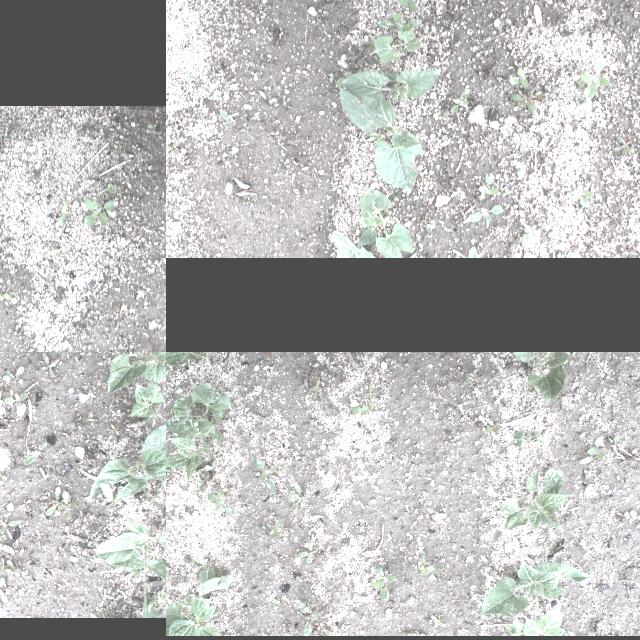crop: (339, 80, 423, 192), (86, 416, 166, 507), (480, 561, 590, 617), (87, 517, 166, 586), (501, 466, 573, 532), (166, 574, 234, 635), (357, 190, 413, 258), (505, 352, 572, 405), (342, 70, 440, 106), (166, 418, 221, 480), (166, 382, 229, 433), (104, 352, 166, 397), (368, 28, 422, 62), (506, 606, 566, 636), (131, 382, 166, 424), (332, 230, 376, 258), (166, 352, 226, 368), (192, 558, 216, 586), (511, 429, 543, 447)
weed: (580, 58, 610, 102), (40, 485, 76, 519), (82, 196, 116, 228), (250, 455, 276, 495), (137, 582, 166, 617), (376, 13, 422, 35), (369, 566, 395, 600), (294, 600, 318, 636), (207, 489, 237, 516), (465, 204, 505, 222), (2, 558, 30, 582), (580, 436, 604, 464), (510, 90, 540, 112), (21, 442, 47, 466), (419, 552, 441, 580), (478, 174, 500, 200), (266, 518, 288, 540), (612, 136, 636, 156), (450, 88, 470, 112), (0, 365, 24, 385), (288, 481, 304, 511), (38, 352, 56, 378), (296, 545, 316, 567), (569, 190, 593, 208), (218, 109, 240, 128), (350, 403, 374, 419), (56, 199, 70, 225), (2, 392, 28, 406), (508, 67, 526, 87), (0, 519, 22, 535), (0, 576, 13, 603), (308, 378, 324, 399), (362, 382, 378, 402), (334, 72, 352, 88), (143, 489, 161, 505), (580, 24, 600, 38), (42, 244, 59, 260), (482, 420, 501, 434), (520, 228, 534, 246), (506, 235, 520, 253), (107, 591, 121, 609), (196, 473, 210, 491), (210, 411, 224, 429), (429, 615, 446, 629), (606, 18, 620, 34), (350, 48, 364, 64), (463, 368, 477, 384), (542, 87, 560, 99), (529, 94, 547, 106), (167, 140, 179, 158), (418, 220, 434, 232), (0, 130, 7, 153), (599, 66, 615, 76), (104, 182, 116, 194), (316, 394, 328, 406), (569, 97, 581, 107), (468, 246, 478, 258), (274, 438, 284, 450), (569, 114, 577, 128), (0, 292, 10, 302), (576, 80, 586, 90), (400, 455, 410, 465), (0, 472, 7, 486), (44, 272, 52, 284), (554, 202, 566, 210), (272, 598, 280, 610), (119, 150, 128, 160), (145, 121, 153, 132), (612, 436, 618, 450), (48, 261, 56, 271), (512, 122, 520, 132), (516, 200, 526, 208), (501, 173, 509, 183), (367, 43, 377, 51), (331, 185, 341, 193), (282, 100, 292, 108), (405, 632, 425, 636), (441, 110, 449, 118), (449, 190, 457, 198), (250, 112, 258, 120), (183, 73, 191, 81), (166, 594, 172, 602), (500, 192, 510, 196), (484, 50, 494, 54), (325, 632, 335, 636), (577, 144, 581, 152), (217, 92, 221, 100), (249, 72, 257, 76), (166, 243, 172, 248), (330, 72, 332, 84), (205, 252, 209, 258)
